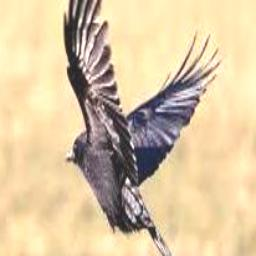Crow: (63, 0, 222, 256)
